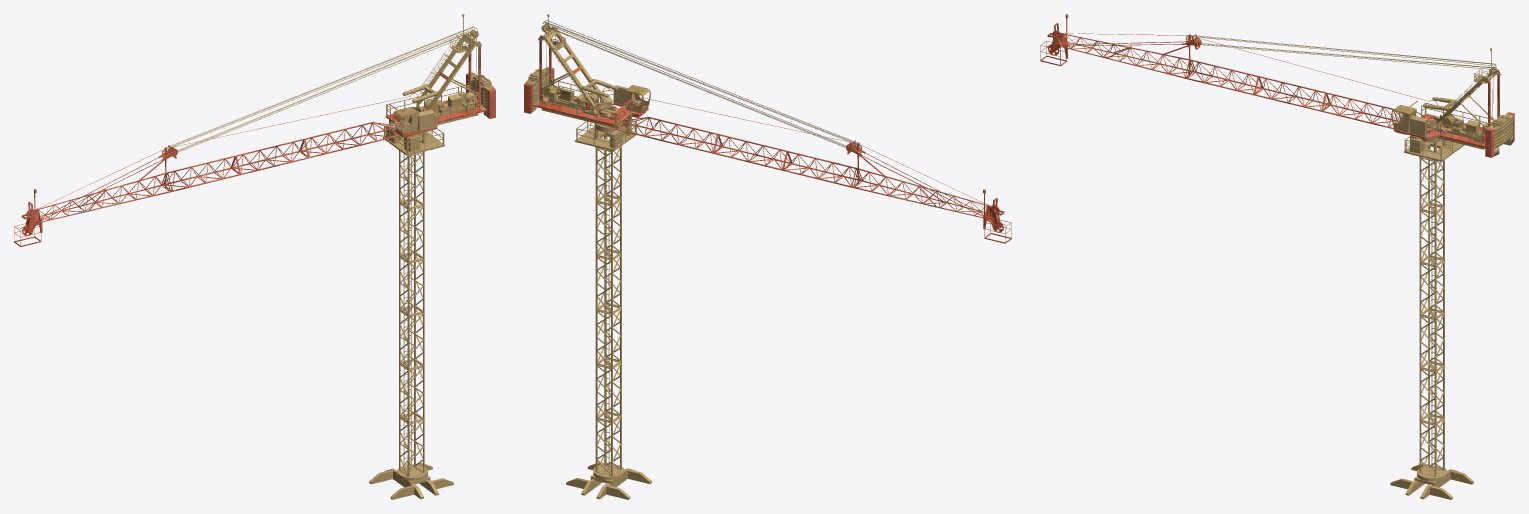
The model's file is Crane01.FBX.
The picture shows the model from 3 angles, left to right: view 1: azimuth 30°, elevation 25°; view 2: azimuth 150°, elevation 25°; view 3: azimuth 330°, elevation 25°; orthographic projection. The views are drawn at different scales.
Visible parts, largest first — view 1: crane_base, sub01, Object001, sub02; view 2: crane_base, sub01, Object001, sub02; view 3: crane_base, Object001, sub01, sub02.
Part boxes in pixels (x1,y1,x2,y2): crane_base: [369, 124, 453, 499]; sub01: [166, 14, 493, 152]; Object001: [14, 93, 417, 246]; sub02: [385, 45, 495, 137]; crane_base: [566, 119, 651, 499]; sub01: [526, 14, 857, 149]; Object001: [603, 87, 1011, 243]; sub02: [524, 39, 648, 126]; crane_base: [1390, 136, 1473, 499]; Object001: [1040, 14, 1437, 129]; sub01: [1189, 35, 1513, 156]; sub02: [1393, 73, 1514, 157].
Bounding box in the file's own units: 440 × 406 × 58.38.
Materials: 3 (3 with a texture image).
